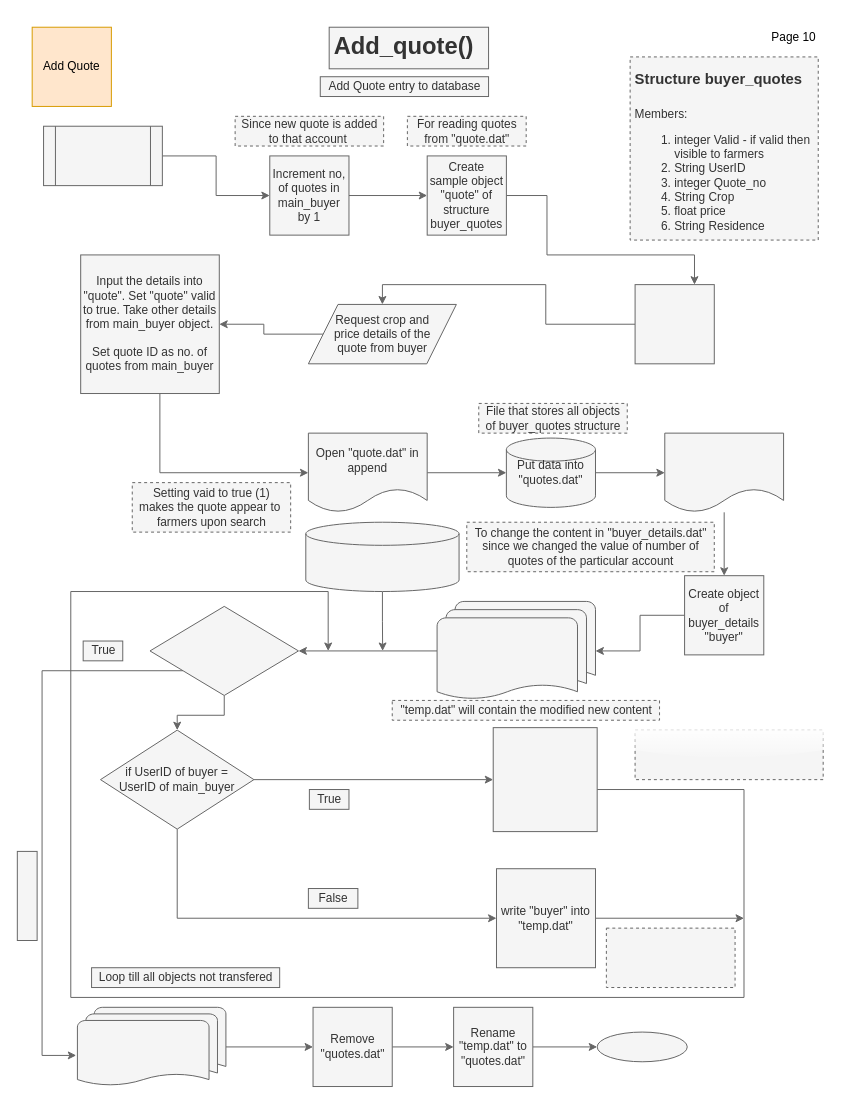
Some shapes in this 841 by 1104 pixel diagram are drawn without their labels. The shapes that lost their labels are listed below. From the top down, each one's centre as x and y in pixels, then its label:
(102,155): Add_quote
(674,324): Console Clear Screen
(724,472): Close "quote.dat"
(382,556): Read "buyer_details.dat" into "buyer"
(223,650): While end of file of "buyer_details.dat"
(515,650): Open "buyer_details.dat" in read and "temp.dat" in write
(728,754): Writes main_buyer because it contains the updated details of the account
(544,779): write main_buyer object into "temp.dat"
(26,895): Exit from loop
(670,957): Since no changes are made onother objects, they are just transfered directly
(151,1046): Close "quote.dat" and "temp.dat"
(641,1046): TERMINATE
